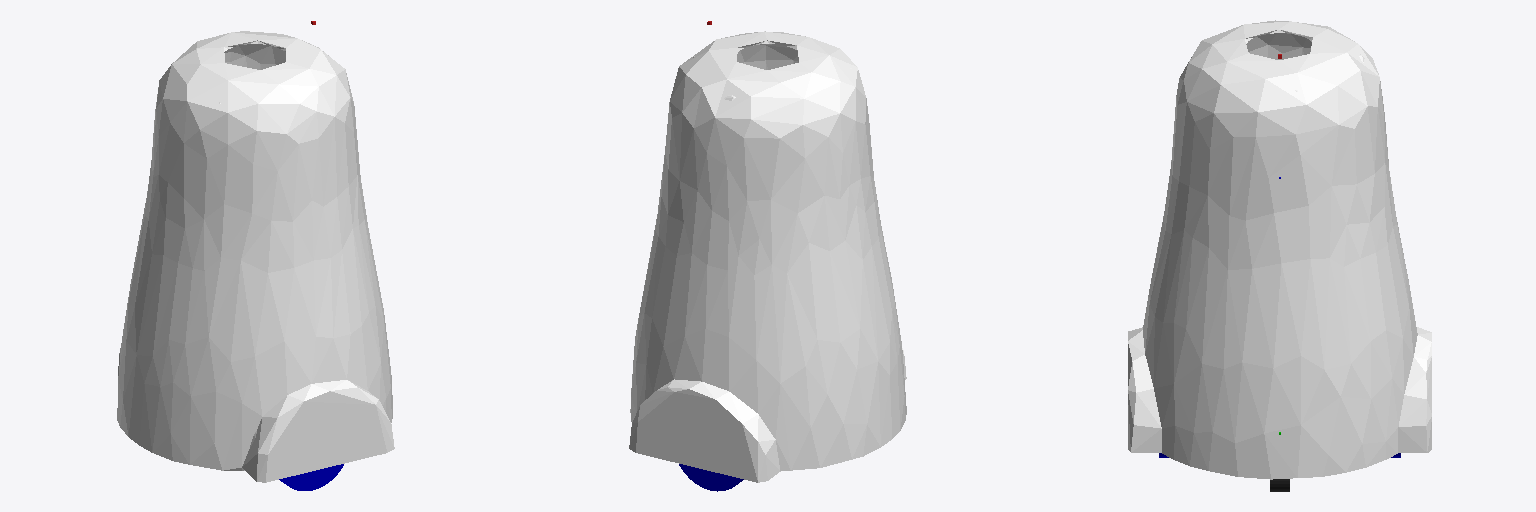
robot.urdf — arca3:
<?xml version="1.0" ?>
<!-- =================================================================================== -->
<!-- |    This document was autogenerated by xacro from arca3.xacro                    | -->
<!-- |    EDITING THIS FILE BY HAND IS NOT RECOMMENDED                                 | -->
<!-- =================================================================================== -->
<robot name="arca3" xmlns:xacro="http://ros.org/wiki/xacro">
  <!-- Inluir archivos de materiales y colores-->
  <material name="blue">
    <color rgba="0 0 0.8 1"/>
  </material>
  <material name="green">
    <color rgba="0.0 0.8 0.0 1.0"/>
  </material>
  <material name="black">
    <color rgba="0.0 0.0 0.0 1.0"/>
  </material>
  <material name="white">
    <color rgba="1.0 1.0 1.0 1.0"/>
  </material>
  <material name="red">
    <color rgba="0.80078125 0.12890625 0.1328125 1.0"/>
  </material>
  <material name="grey">
    <color rgba="0.2 0.2 0.2 1.0"/>
  </material>
  <!-- cwh: caster wheel heat, [m]  -->
  <!-- cw_izz: caster wheel inertia z axis, [kgm^2]  -->
  <!-- yc_dist: distance from the origin to the wheel along the y axis, [m]  -->
  <!-- dwt: driving wheel tread, [m]  -->
  <!-- dw_izz: driving wheel inertia z axis, [kgm^2]  -->
  <!-- xd_dist: distance from the origin to the wheel along the x axis, [m]  -->
  <!-- ch: chassis height, [m]  -->
  <!-- c_izz: chassis inertia z axis, [kgm^2]  -->
  <!-- zch_dist: distance from the ground to the bottom of the chasis, [m]  -->
  <!-- cwlh: caster wheel link height, [m]  -->
  <!-- camera_len: length of the camera (it's a cube), [m] -->
  <!-- =========================================== -->
  <!-- ROBOT DESCRIPTION -->
  <!-- =========================================== -->
  <!-- Chassis -->
  <link name="base_link">
    <visual>
      <origin rpy="0 0 0" xyz="0 0 0.105"/>
      <geometry>
        <mesh filename="package://arca3_description/urdf/meshes/Estructura_arca.stl" scale="0.01 0.01 0.01"/>
      </geometry>
      <material name="white"/>
    </visual>
    <collision>
      <origin rpy="0 0 0" xyz="0 0 0.105"/>
      <geometry>
        <mesh filename="package://arca3_description/urdf/meshes/Estructura_arca.stl" scale="0.01 0.01 0.01"/>
      </geometry>
    </collision>
    <inertial>
      <origin rpy="0 0 0" xyz="0 0 0.105"/>
      <mass value="10.0"/>
      <inertia ixx="0.881333333333" ixy="0.0" ixz="0.0" iyy="0.908333333333" iyz="0.0" izz="0.123"/>
    </inertial>
  </link>
  <gazebo reference="base_link">
    <kp>10000.0</kp>
    <kd>10000.0</kd>
    <mu1>10.0</mu1>
    <mu2>10.0</mu2>
    <material>Gazebo/Grey</material>
  </gazebo>
  <link name="caster_wheel_M1_link">
    <visual>
      <origin rpy="0 0 0" xyz="0 0 0"/>
      <geometry>
        <box size="0.020 0.02 0.035"/>
      </geometry>
      <material name="white"/>
    </visual>
    <collision>
      <origin rpy="0 0 0" xyz="0 0 0"/>
      <geometry>
        <box size="0.020 0.020 0.035"/>
      </geometry>
    </collision>
    <inertial>
      <origin rpy="0 0 0" xyz="0 0 0"/>
      <mass value="0.05"/>
      <inertia ixx="0" ixy="0.0" ixz="0.0" iyy="0" iyz="0.0" izz="0"/>
    </inertial>
  </link>
  <gazebo reference="caster_wheel_M1_link">
    <kp>10000.0</kp>
    <kd>10000.0</kd>
    <mu1>10.0</mu1>
    <mu2>10.0</mu2>
    <material>Gazebo/Grey</material>
  </gazebo>
  <link name="wheel_M1_link">
    <visual>
      <origin rpy="0 0 0" xyz="0 0 0"/>
      <geometry>
        <cylinder length="0.027" radius="0.025"/>
      </geometry>
      <material name="grey"/>
    </visual>
    <collision>
      <origin rpy="0 0 0" xyz="0 0 0"/>
      <geometry>
        <cylinder length="0.027" radius="0.025"/>
      </geometry>
    </collision>
    <inertial>
      <origin rpy="0 0 0" xyz="0 0 0"/>
      <mass value="0.5"/>
      <inertia ixx="0.0001085" ixy="0.0" ixz="0.0" iyy="0.0001085" iyz="0.0" izz="0.00015625"/>
    </inertial>
  </link>
  <gazebo reference="wheel_M1_link">
    <kp>10000.0</kp>
    <kd>10000.0</kd>
    <mu1>10.0</mu1>
    <mu2>10.0</mu2>
    <material>Gazebo/Grey</material>
  </gazebo>
  <joint name="caster_wheel_M1_wheel_M1_joint" type="continuous">
    <parent link="caster_wheel_M1_link"/>
    <child link="wheel_M1_link"/>
    <origin rpy="1.570796 0 0" xyz="0.015 0 -0.035"/>
    <limit effort="1.0" velocity="0.005"/>
    <axis xyz="0 0 1"/>
  </joint>
  <link name="caster_wheel_M2_link">
    <visual>
      <origin rpy="0 0 0" xyz="0 0 0"/>
      <geometry>
        <box size="0.020 0.02 0.035"/>
      </geometry>
      <material name="white"/>
    </visual>
    <collision>
      <origin rpy="0 0 0" xyz="0 0 0"/>
      <geometry>
        <box size="0.020 0.020 0.035"/>
      </geometry>
    </collision>
    <inertial>
      <origin rpy="0 0 0" xyz="0 0 0"/>
      <mass value="0.05"/>
      <inertia ixx="0" ixy="0.0" ixz="0.0" iyy="0" iyz="0.0" izz="0"/>
    </inertial>
  </link>
  <gazebo reference="caster_wheel_M2_link">
    <kp>10000.0</kp>
    <kd>10000.0</kd>
    <mu1>10.0</mu1>
    <mu2>10.0</mu2>
    <material>Gazebo/Grey</material>
  </gazebo>
  <link name="wheel_M2_link">
    <visual>
      <origin rpy="0 0 0" xyz="0 0 0"/>
      <geometry>
        <cylinder length="0.027" radius="0.025"/>
      </geometry>
      <material name="grey"/>
    </visual>
    <collision>
      <origin rpy="0 0 0" xyz="0 0 0"/>
      <geometry>
        <cylinder length="0.027" radius="0.025"/>
      </geometry>
    </collision>
    <inertial>
      <origin rpy="0 0 0" xyz="0 0 0"/>
      <mass value="0.5"/>
      <inertia ixx="0.0001085" ixy="0.0" ixz="0.0" iyy="0.0001085" iyz="0.0" izz="0.00015625"/>
    </inertial>
  </link>
  <gazebo reference="wheel_M2_link">
    <kp>10000.0</kp>
    <kd>10000.0</kd>
    <mu1>10.0</mu1>
    <mu2>10.0</mu2>
    <material>Gazebo/Grey</material>
  </gazebo>
  <joint name="caster_wheel_M2_wheel_M2_joint" type="continuous">
    <parent link="caster_wheel_M2_link"/>
    <child link="wheel_M2_link"/>
    <origin rpy="1.570796 0 0" xyz="0.015 0 -0.035"/>
    <limit effort="1.0" velocity="0.005"/>
    <axis xyz="0 0 1"/>
  </joint>
  <!-- Joint among chassis and caster wheels -->
  <joint name="base_link_caster_wheel_M1_joint" type="continuous">
    <parent link="base_link"/>
    <child link="caster_wheel_M1_link"/>
    <origin rpy="0 0 0" xyz="0.11 0 0.0625"/>
    <limit effort="1.0" velocity="1"/>
    <axis xyz="0 0 1"/>
  </joint>
  <joint name="base_link_caster_wheel_M2_joint" type="continuous">
    <parent link="base_link"/>
    <child link="caster_wheel_M2_link"/>
    <origin rpy="0 0 0" xyz="-0.11 0 0.0625"/>
    <limit effort="1.0" velocity="1"/>
    <axis xyz="0 0 1"/>
  </joint>
  <link name="driving_wheel_M1_link">
    <visual>
      <origin rpy="0 0 0" xyz="0 0 0"/>
      <geometry>
        <cylinder length="0.044" radius="0.0625"/>
      </geometry>
      <material name="blue"/>
    </visual>
    <collision>
      <origin rpy="0 0 0" xyz="0 0 0"/>
      <geometry>
        <cylinder length="0.044" radius="0.0625"/>
      </geometry>
    </collision>
    <inertial>
      <origin rpy="0 0 0" xyz="0 0 0"/>
      <mass value="0.6"/>
      <inertia ixx="0.0006827375" ixy="0.0" ixz="0.0" iyy="0.0006827375" iyz="0.0" izz="0.001171875"/>
    </inertial>
  </link>
  <gazebo reference="driving_wheel_M1_link">
    <kp>10000.0</kp>
    <kd>10000.0</kd>
    <mu1>10.0</mu1>
    <mu2>10.0</mu2>
    <material>Gazebo/Blue</material>
  </gazebo>
  <link name="driving_wheel_M2_link">
    <visual>
      <origin rpy="0 0 0" xyz="0 0 0"/>
      <geometry>
        <cylinder length="0.044" radius="0.0625"/>
      </geometry>
      <material name="blue"/>
    </visual>
    <collision>
      <origin rpy="0 0 0" xyz="0 0 0"/>
      <geometry>
        <cylinder length="0.044" radius="0.0625"/>
      </geometry>
    </collision>
    <inertial>
      <origin rpy="0 0 0" xyz="0 0 0"/>
      <mass value="0.6"/>
      <inertia ixx="0.0006827375" ixy="0.0" ixz="0.0" iyy="0.0006827375" iyz="0.0" izz="0.001171875"/>
    </inertial>
  </link>
  <gazebo reference="driving_wheel_M2_link">
    <kp>10000.0</kp>
    <kd>10000.0</kd>
    <mu1>10.0</mu1>
    <mu2>10.0</mu2>
    <material>Gazebo/Blue</material>
  </gazebo>
  <!-- Joint among chassis and driving wheels -->
  <joint name="joint_base_link_driving_wheel_M1" type="continuous">
    <parent link="base_link"/>
    <child link="driving_wheel_M1_link"/>
    <origin rpy="1.57 0 0" xyz="0 -0.149 0.0625"/>
    <limit effort="15.0" velocity="0.1"/>
    <axis xyz="0 0 -1"/>
  </joint>
  <joint name="joint_base_link_driving_wheel_M2" type="continuous">
    <parent link="base_link"/>
    <child link="driving_wheel_M2_link"/>
    <origin rpy="1.57 0 0" xyz="0 0.149 0.0625"/>
    <limit effort="15.0" velocity="0.1"/>
    <axis xyz="0 0 -1"/>
  </joint>
  <!-- ============================================ -->
  <!-- PLugin - Gazebo drive controller (diff robot)-->
  <!-- ============================================ -->
  <gazebo>
    <plugin filename="libgazebo_ros_diff_drive.so" name="differential_drive_controller">
      <alwaysOn>true</alwaysOn>
      <updateRate>50</updateRate>
      <leftJoint>joint_base_link_driving_wheel_M2</leftJoint>
      <rightJoint>joint_base_link_driving_wheel_M1</rightJoint>
      <wheelSeparation>0.284</wheelSeparation>
      <wheelDiameter>0.125</wheelDiameter>
      <wheelAcceleration>0.2</wheelAcceleration>
      <wheelTorque>30</wheelTorque>
      <commandTopic>cmd_vel</commandTopic>
      <odometryTopic>odom</odometryTopic>
      <odometryFrame>odom</odometryFrame>
      <robotBaseFrame>base_footprint</robotBaseFrame>
      <publishWheelTF>true</publishWheelTF>
      <publishOdom>true</publishOdom>
      <robotBaseFrame>base_link</robotBaseFrame>
      <publishWheelJointState>true</publishWheelJointState>
      <legacyMode>false</legacyMode>
      <rosDebugLevel>false</rosDebugLevel>
      <publishOdomTF>true</publishOdomTF>
      <odometrySource>1</odometrySource>
      <publishTf>1</publishTf>
    </plugin>
  </gazebo>
  <!-- ============================================ -->
  <!--                   SENSORS                    -->
  <!-- ============================================ -->
  <!-- Sensor Laser in the base -->
  <link name="front_laserscanner_link">
    <visual>
      <origin rpy="0.0 0 0" xyz="0 0 0"/>
      <geometry>
        <box size="0.003 0.003 0.003"/>
      </geometry>
      <material name="green"/>
    </visual>
    <collision>
      <origin rpy="0.0 0 0" xyz="0 0 0"/>
      <geometry>
        <box size="0.003 0.003 0.003"/>
      </geometry>
    </collision>
    <inertial>
      <mass value="1e-5"/>
      <origin rpy="0 0 0" xyz="0 0 0"/>
      <inertia ixx="1e-6" ixy="0" ixz="0" iyy="1e-6" iyz="0" izz="1e-6"/>
    </inertial>
  </link>
  <joint name="base_front_laserscanner_joint" type="fixed">
    <axis xyz="0 1 0"/>
    <parent link="base_link"/>
    <child link="front_laserscanner_link"/>
    <origin rpy="0 0 -1.5708" xyz="0.2 0 0.125"/>
  </joint>
  <gazebo reference="front_laserscanner_link">
    <!-- Gazebo sensor -->
    <sensor name="front_rplidar_sensor" type="ray">
      <pose>0 0 0 0 0 0</pose>
      <visualize>true</visualize>
      <!-- put True if you want to visualize the range of the laser -->
      <update_rate>40</update_rate>
      <ray>
        <scan>
          <horizontal>
            <samples>720</samples>
            <resolution>1</resolution>
            <min_angle>0</min_angle>
            <max_angle>3.1416</max_angle>
          </horizontal>
        </scan>
        <range>
          <min>0.10</min>
          <max>2.5</max>
          <resolution>0.01</resolution>
        </range>
        <noise>
          <type>gaussian</type>
          <!-- Noise parameters based on published spec for Hokuyo laser
                         achieving "+-30mm" accuracy at range < 10m.  A mean of 0.0m and
                         stddev of 0.01m will put 99.7% of samples within 0.03m of the true
                         reading. -->
          <mean>0.0</mean>
          <stddev>0.01</stddev>
        </noise>
      </ray>
      <!-- Gazebo plugin -->
      <plugin filename="libgazebo_ros_laser.so" name="gazebo_ros_head_hokuyo_controller">
        <topicName>front_scan</topicName>
        <frameName>front_laserscanner_link</frameName>
      </plugin>
    </sensor>
    <material> Gazebo/Black</material>
  </gazebo>
  <!-- Depth sensor at the middle -->
  <link name="front_dcamera_link">
    <visual>
      <origin rpy="0.0 0 0" xyz="0 0 0"/>
      <geometry>
        <box size="0.002 0.002 0.002"/>
      </geometry>
      <material name="blue"/>
    </visual>
  </link>
  <joint name="base_front_dcamera_joint" type="fixed">
    <parent link="base_link"/>
    <child link="front_dcamera_link"/>
    <origin rpy="0 0 0" xyz="0.15 0 0.5"/>
  </joint>
  <gazebo reference="front_dcamera_link">
    <!-- Gazebo sensor-->
    <sensor name="front_depth_camera" type="depth">
      <update_rate>20</update_rate>
      <camera>
        <horizontal_fov>1.047198</horizontal_fov>
        <image>
          <width>640</width>
          <height>480</height>
          <format>R8G8B8</format>
        </image>
        <clip>
          <near>0.05</near>
          <far>3</far>
        </clip>
      </camera>
      <!-- Gazebo plugin-->
      <plugin filename="libgazebo_ros_openni_kinect.so" name="front_depth_link_controller">
        <baseline>0.2</baseline>
        <alwaysOn>true</alwaysOn>
        <updateRate>1.0</updateRate>
        <cameraName>front_dcamera</cameraName>
        <imageTopicName>front_dcamera/color/image_raw</imageTopicName>
        <cameraInfoTopicName>/front_dcamera/color/camera_info</cameraInfoTopicName>
        <depthImageTopicName>/front_dcamera/depth/image_raw</depthImageTopicName>
        <depthImageInfoTopicName>/front_dcamera/depth/camera_info</depthImageInfoTopicName>
        <pointCloudTopicName>/front_dcamera/depth/points</pointCloudTopicName>
        <frameName>front_dcamera_link</frameName>
        <pointCloudCutoff>0.5</pointCloudCutoff>
        <pointCloudCutoffMax>3.0</pointCloudCutoffMax>
        <distortionK1>0.00000001</distortionK1>
        <distortionK2>0.00000001</distortionK2>
        <distortionK3>0.00000001</distortionK3>
        <distortionT1>0.00000001</distortionT1>
        <distortionT2>0.00000001</distortionT2>
        <CxPrime>0</CxPrime>
        <Cx>0</Cx>
        <Cy>0</Cy>
        <focalLength>0</focalLength>
        <hackBaseline>0</hackBaseline>
      </plugin>
    </sensor>
    <material>Gazebo/Green</material>
  </gazebo>
  <!-- Camera in the head -->
  <link name="camera_link">
    <visual>
      <origin rpy="0 0 0" xyz="0 0 0"/>
      <geometry>
        <box size="0.005 0.005 0.005"/>
      </geometry>
      <material name="red"/>
    </visual>
    <collision>
      <origin rpy="0 0 0" xyz="0 0 0"/>
      <geometry>
        <box size="0.005 0.005 0.005"/>
      </geometry>
    </collision>
    <inertial>
      <mass value="1e-5"/>
      <origin rpy="0 0 0" xyz="0 0 0"/>
      <inertia ixx="1e-6" ixy="0" ixz="0" iyy="1e-6" iyz="0" izz="1e-6"/>
    </inertial>
  </link>
  <joint name="camera_joint" type="fixed">
    <axis xyz="0 1 0"/>
    <origin rpy="0 0 0" xyz="0.1 0 0.666666666667"/>
    <parent link="base_link"/>
    <child link="camera_link"/>
  </joint>
  <!-- camera -->
  <gazebo reference="camera_link">
    <!-- Gazebo sensor-->
    <sensor name="head_camera" type="camera">
      <update_rate>30.0</update_rate>
      <camera name="head">
        <horizontal_fov>1.3962634</horizontal_fov>
        <image>
          <width>800</width>
          <height>800</height>
          <format>R8G8B8</format>
        </image>
        <clip>
          <near>0.02</near>
          <far>300</far>
        </clip>
        <noise>
          <type>gaussian</type>
          <!-- Noise is sampled independently per pixel on each frame.
                    That pixel's noise value is added to each of its color
                    channels, which at that point lie in the range [0,1]. -->
          <mean>0.0</mean>
          <stddev>0.007</stddev>
        </noise>
      </camera>
      <!-- Gazebo plugin-->
      <plugin filename="libgazebo_ros_camera.so" name="camera_controller">
        <alwaysOn>true</alwaysOn>
        <updateRate>0.0</updateRate>
        <cameraName>head_camera</cameraName>
        <imageTopicName>head_camera/image_raw</imageTopicName>
        <cameraInfoTopicName>head_camera/camera_info</cameraInfoTopicName>
        <frameName>camera_link</frameName>
        <hackBaseline>0.07</hackBaseline>
        <distortionK1>0.0</distortionK1>
        <distortionK2>0.0</distortionK2>
        <distortionK3>0.0</distortionK3>
        <distortionT1>0.0</distortionT1>
        <distortionT2>0.0</distortionT2>
      </plugin>
    </sensor>
    <material>Gazebo/Red</material>
  </gazebo>
</robot>

--- Render facts (derived) ---
Views: 3 orthographic renders of the robot side by side, from view 1: azimuth 30°, elevation 25°; view 2: azimuth 150°, elevation 25°; view 3: azimuth 270°, elevation 25°.
Robot: arca3 — 10 links, 9 joints (6 continuous, 3 fixed); root link base_link; default pose: every joint at zero.
Visible links, largest first — view 1: base_link, driving_wheel_M1_link; view 2: base_link, driving_wheel_M2_link; view 3: base_link.
Boxes of the visible links, x1=… form: base_link: x1=117, y1=31, x2=394, y2=482; driving_wheel_M1_link: x1=279, y1=464, x2=343, y2=490; base_link: x1=629, y1=31, x2=906, y2=482; driving_wheel_M2_link: x1=679, y1=464, x2=743, y2=491; base_link: x1=1128, y1=20, x2=1431, y2=479.
Size in the robot's own frame: 0.4068 by 0.43 by 0.6692 metres.
1 mesh visuals loaded from 1 distinct referenced files (1 binary STL).
